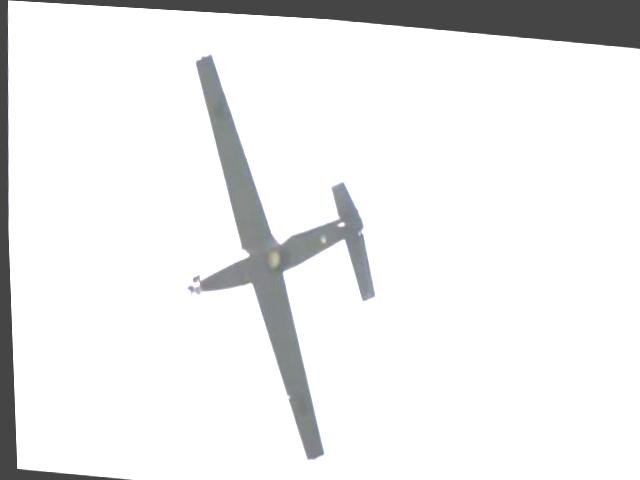iha: (170, 43, 389, 465)
